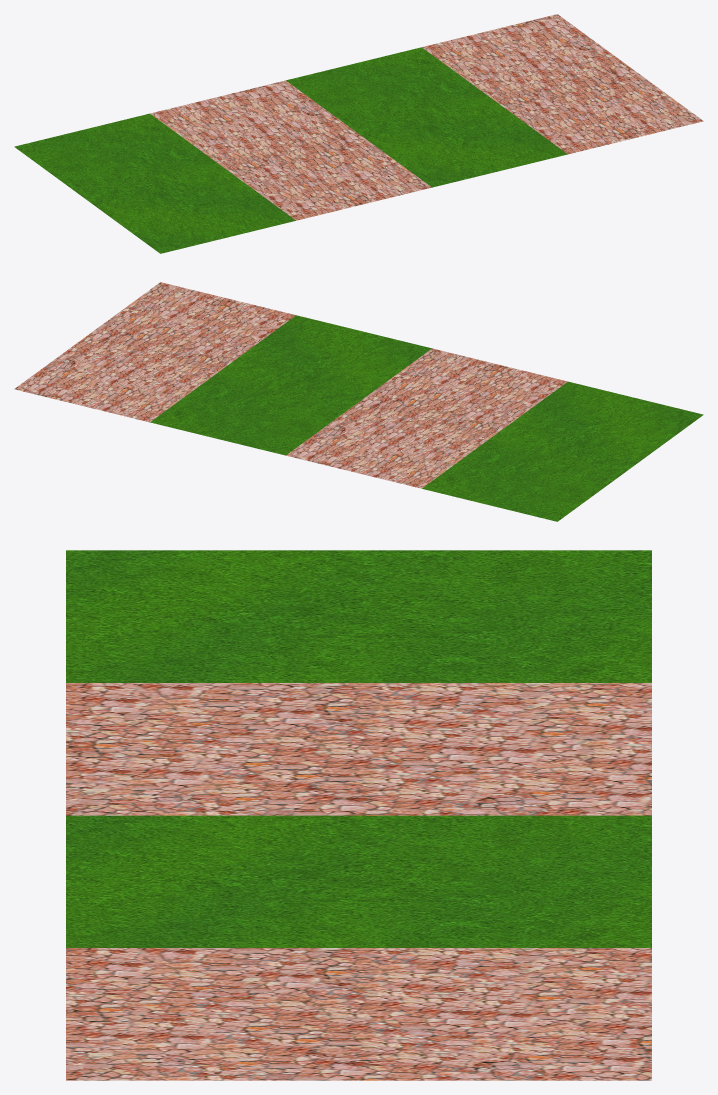
Rendered from BasePlane1.fbx.
3 views of the same model, one above another, from view 1: azimuth 30°, elevation 25°; view 2: azimuth 150°, elevation 25°; view 3: azimuth 270°, elevation 25° (orthographic). The views are drawn at different scales.
Visible parts, largest first — view 1: pPlane1; view 2: pPlane1; view 3: pPlane1.
Boxes of the visible parts, x1,y1,x2,y2 form: pPlane1: (14,14,703,253); pPlane1: (14,282,703,521); pPlane1: (66,550,651,1080).
Bounding box in the file's own units: 15 × 1.55e-15 × 7.
Materials: 1 (1 with a texture image).
